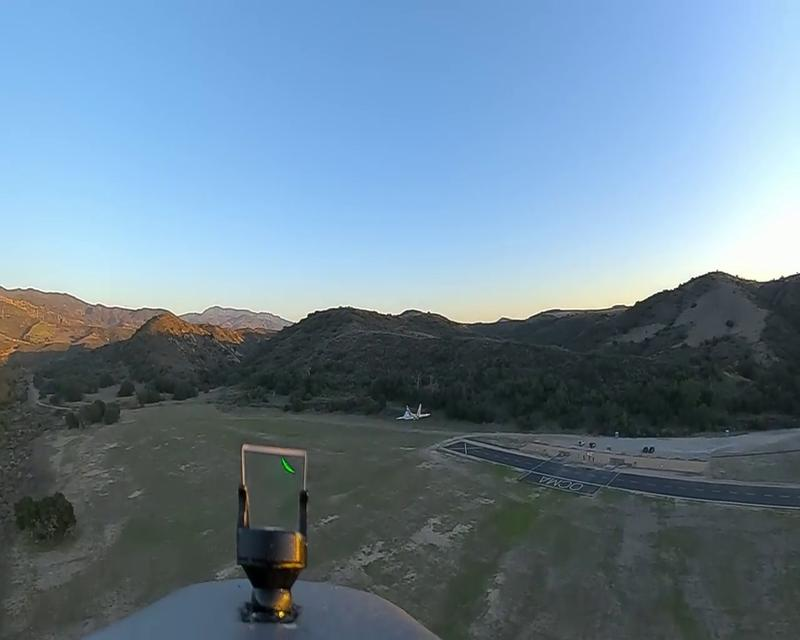UAV: (396, 404, 431, 422)
